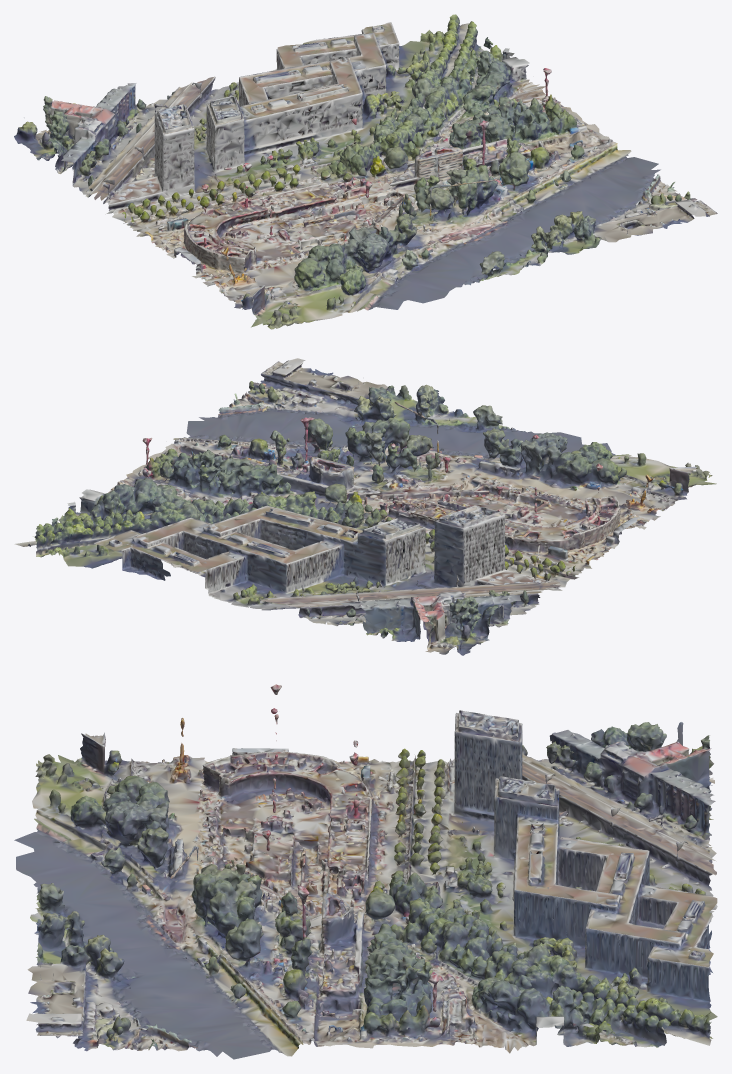
File: surface-detail-3887_58200.glb
3 views of the same model, one above another, from view 1: azimuth 30°, elevation 25°; view 2: azimuth 150°, elevation 25°; view 3: azimuth 270°, elevation 25° (orthographic). The views are drawn at different scales.
Parts seen in each view (by area): view 1: world; view 2: world; view 3: world.
Boxes of the visible parts, x1,y1,x2,y2 form: world: (14,14,717,329); world: (14,358,716,655); world: (14,684,717,1059).
Size of the model in its own units: 385 by 73.68 by 379.
